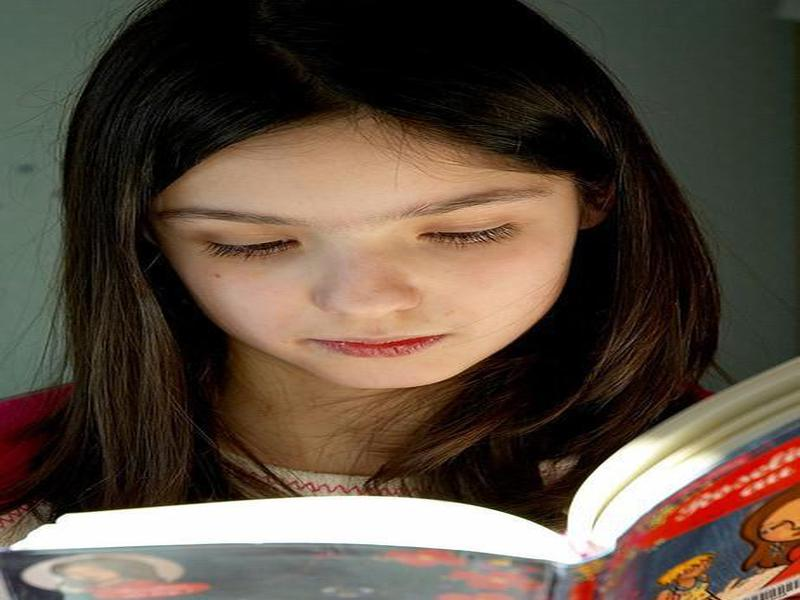person: (5, 6, 715, 600)
